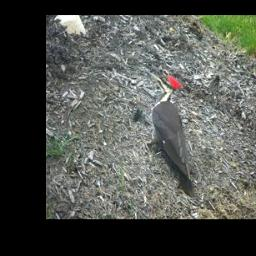Woodpecker: (142, 68, 199, 197)
